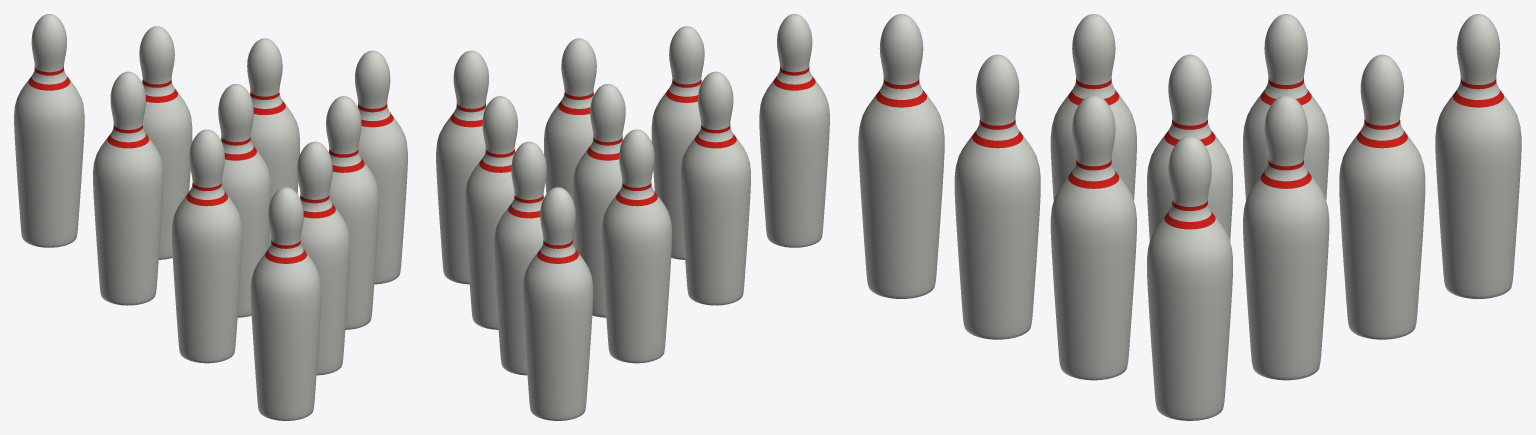
File: bowling pins.fbx
3 views of the same model, side by side, from view 1: azimuth 30°, elevation 25°; view 2: azimuth 150°, elevation 25°; view 3: azimuth 270°, elevation 25° (orthographic). The views are drawn at different scales.
Parts seen in each view (by area): view 1: Cylinder.009, Cylinder.004, Cylinder.008, Cylinder.003, Cylinder, Cylinder.006, Cylinder.007, Cylinder.005, Cylinder.002, Cylinder.001; view 2: Cylinder.003, Cylinder.008, Cylinder.004, Cylinder.009, Cylinder, Cylinder.001, Cylinder.002, Cylinder.005, Cylinder.007, Cylinder.006; view 3: Cylinder.006, Cylinder.001, Cylinder.007, Cylinder.002, Cylinder.009, Cylinder.003, Cylinder, Cylinder.008, Cylinder.004, Cylinder.005.
Boxes of the visible parts, x1=… form: Cylinder.009: x1=250, y1=187, x2=321, y2=420; Cylinder.004: x1=93, y1=71, x2=163, y2=305; Cylinder.008: x1=172, y1=129, x2=242, y2=363; Cylinder.003: x1=14, y1=14, x2=84, y2=247; Cylinder: x1=355, y1=50, x2=407, y2=284; Cylinder.006: x1=326, y1=96, x2=378, y2=329; Cylinder.007: x1=297, y1=141, x2=349, y2=375; Cylinder.005: x1=218, y1=84, x2=271, y2=317; Cylinder.002: x1=139, y1=26, x2=192, y2=259; Cylinder.001: x1=247, y1=38, x2=299, y2=248; Cylinder.003: x1=522, y1=187, x2=593, y2=420; Cylinder.008: x1=680, y1=71, x2=750, y2=305; Cylinder.004: x1=601, y1=129, x2=671, y2=363; Cylinder.009: x1=759, y1=14, x2=829, y2=247; Cylinder: x1=436, y1=50, x2=488, y2=284; Cylinder.001: x1=465, y1=96, x2=517, y2=329; Cylinder.002: x1=494, y1=141, x2=546, y2=375; Cylinder.005: x1=572, y1=84, x2=625, y2=317; Cylinder.007: x1=651, y1=26, x2=704, y2=259; Cylinder.006: x1=544, y1=38, x2=596, y2=248; Cylinder.006: x1=1050, y1=95, x2=1136, y2=380; Cylinder.001: x1=1243, y1=95, x2=1329, y2=380; Cylinder.007: x1=954, y1=54, x2=1040, y2=339; Cylinder.002: x1=1339, y1=54, x2=1425, y2=339; Cylinder.009: x1=858, y1=14, x2=944, y2=298; Cylinder.003: x1=1435, y1=14, x2=1521, y2=298; Cylinder: x1=1147, y1=136, x2=1232, y2=420; Cylinder.008: x1=1050, y1=14, x2=1136, y2=200; Cylinder.004: x1=1243, y1=14, x2=1329, y2=200; Cylinder.005: x1=1147, y1=54, x2=1232, y2=241.
Bounding box in the file's own units: 546 × 433 × 966.
